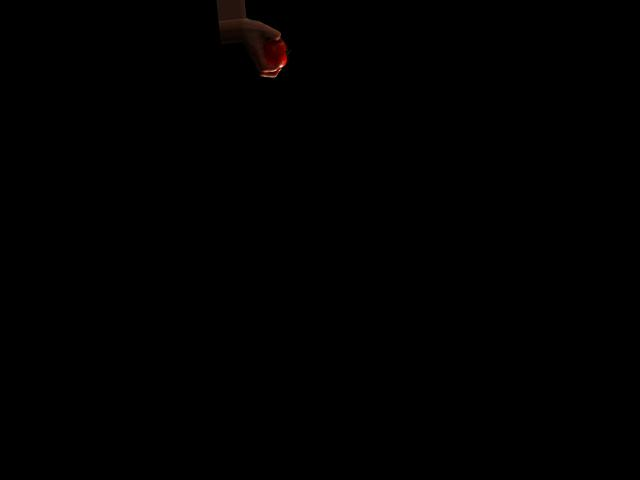tomato: (263, 37, 291, 68)
